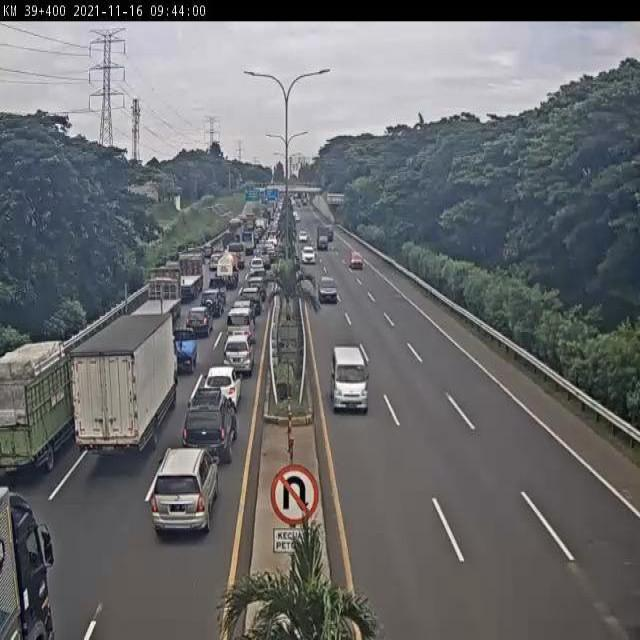car: (151, 447, 221, 537), (181, 389, 243, 467), (326, 344, 372, 415), (204, 366, 247, 406), (172, 324, 199, 380), (224, 332, 254, 375), (226, 307, 255, 345), (203, 292, 227, 321), (188, 307, 212, 336), (239, 286, 263, 314), (245, 275, 267, 300), (319, 276, 337, 305), (232, 300, 253, 317), (349, 252, 364, 271), (303, 245, 316, 264), (299, 229, 307, 243)
truck-l-: (134, 270, 181, 322), (168, 248, 204, 300)
truck-m-: (66, 312, 178, 459), (0, 339, 81, 472), (214, 249, 241, 292)
